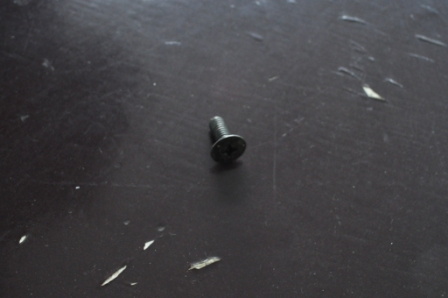NUT(AC): (206, 114, 249, 166)
